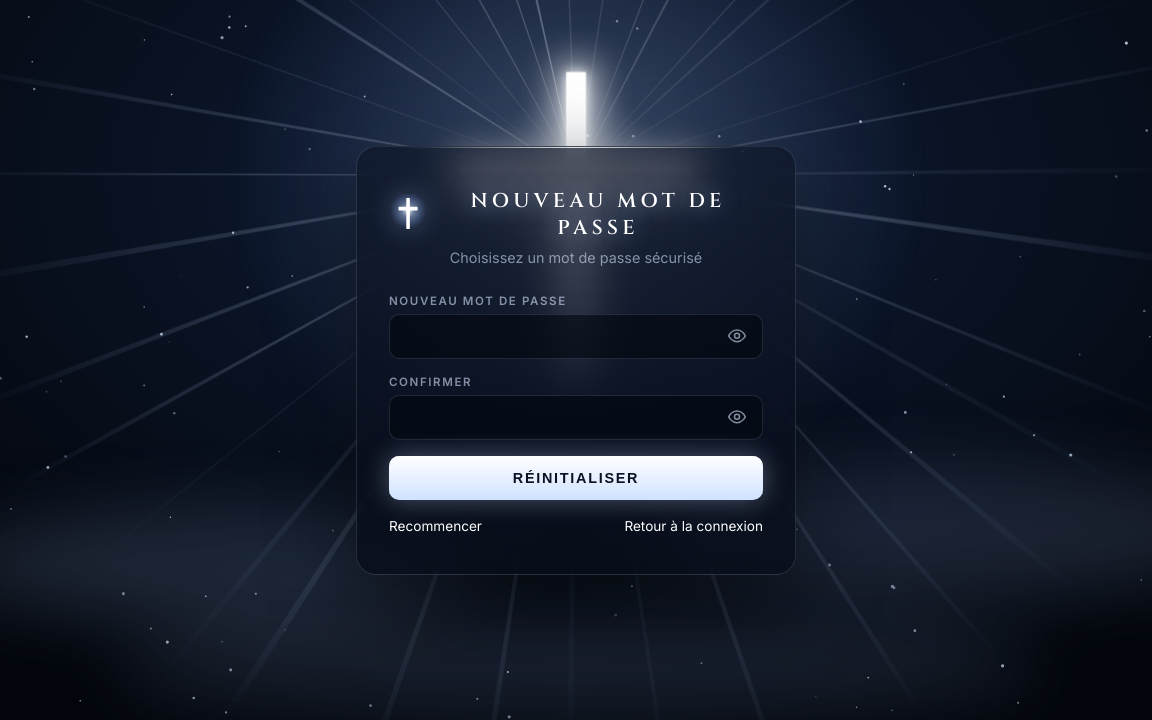
Test case: ResetPassword › réactive le bouton après une erreur
Type "NouveauMdp456" into the password field labelled "Nouveau mot de passe" at (576, 336), box [389,314,763,358]
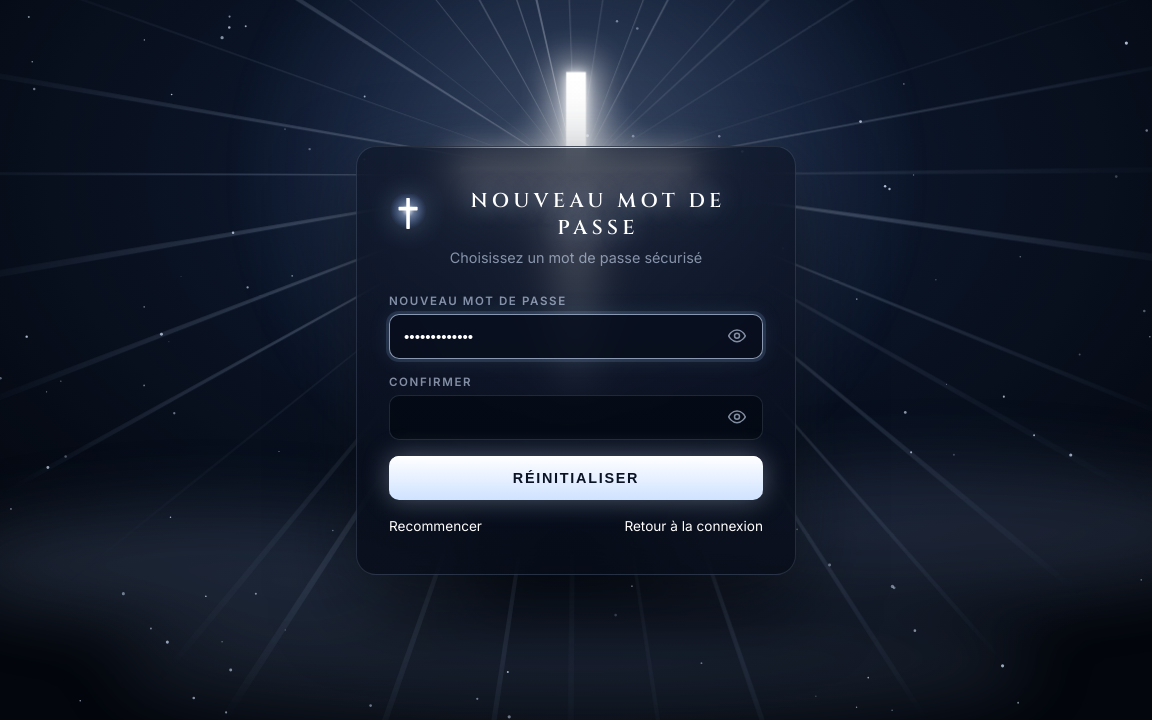
Type "NouveauMdp456" into the password field labelled "Confirmer" at (576, 417), box [389,394,763,440]
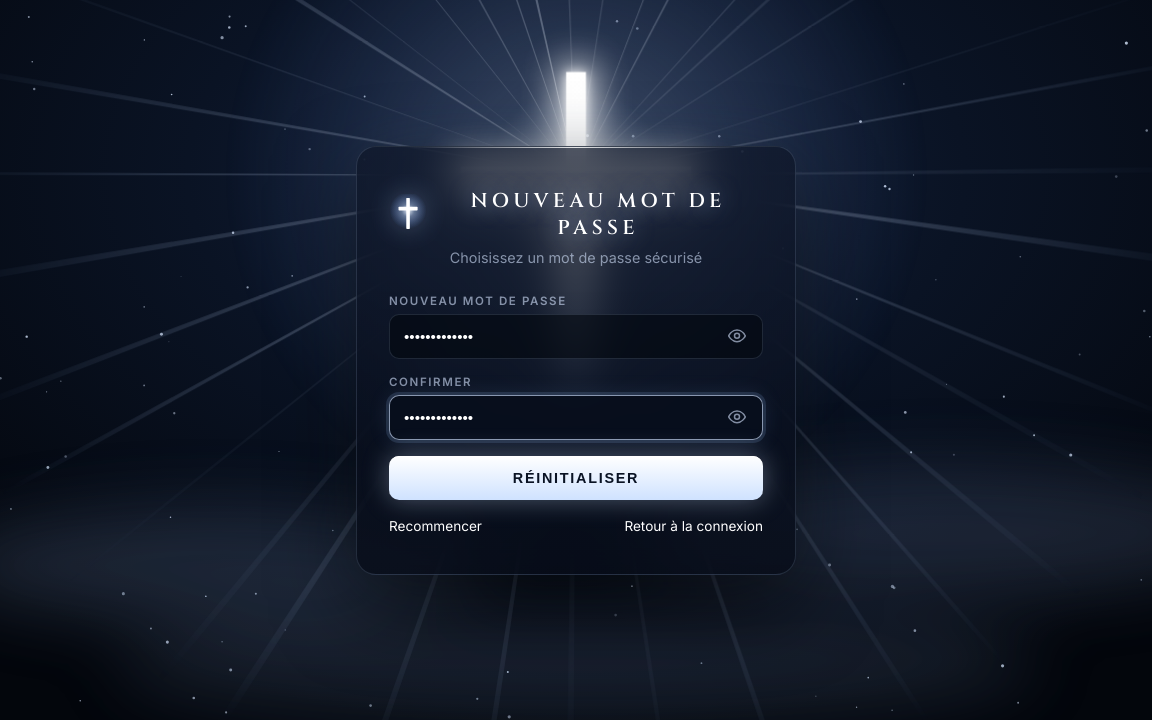
Click the button "Réinitialiser" at (576, 478), box [389,456,763,500]
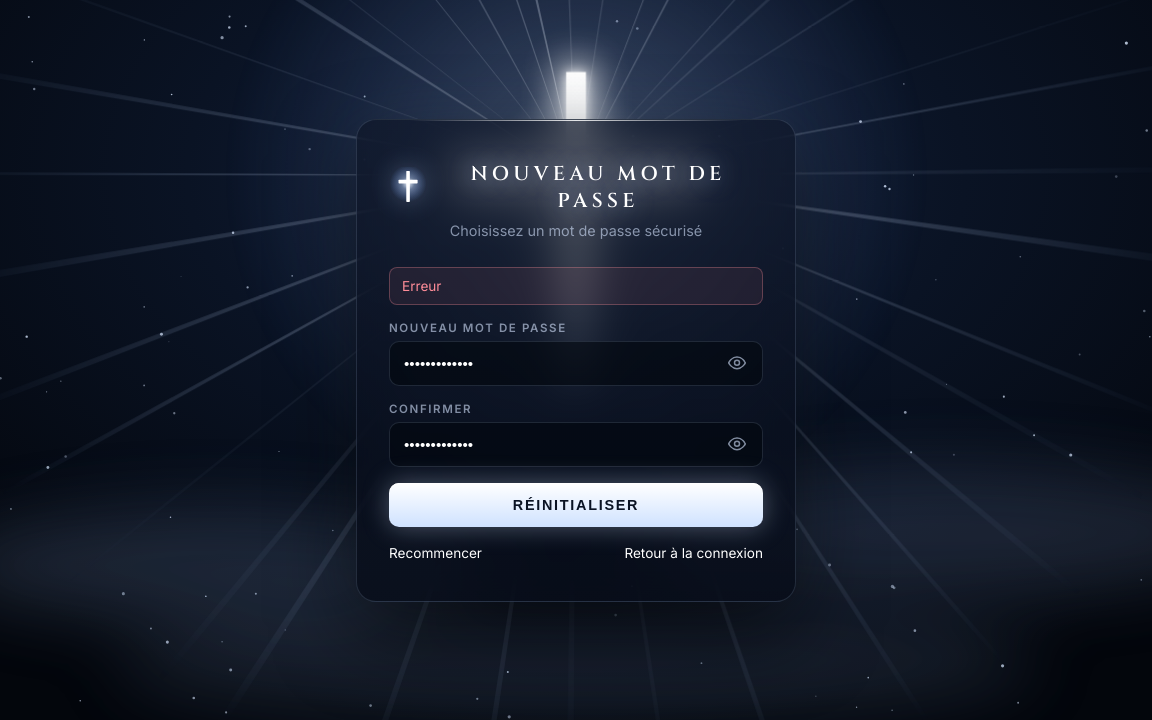
Expected: the button "Réinitialiser" is enabled, [389,482,763,526]
Expected: the text "Erreur" is shown, [389,266,763,304]
